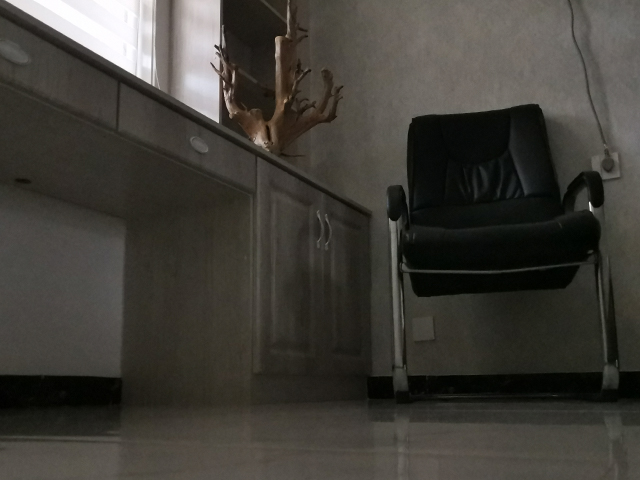cabinet: (244, 154, 374, 407)
stool: (384, 101, 623, 404)
